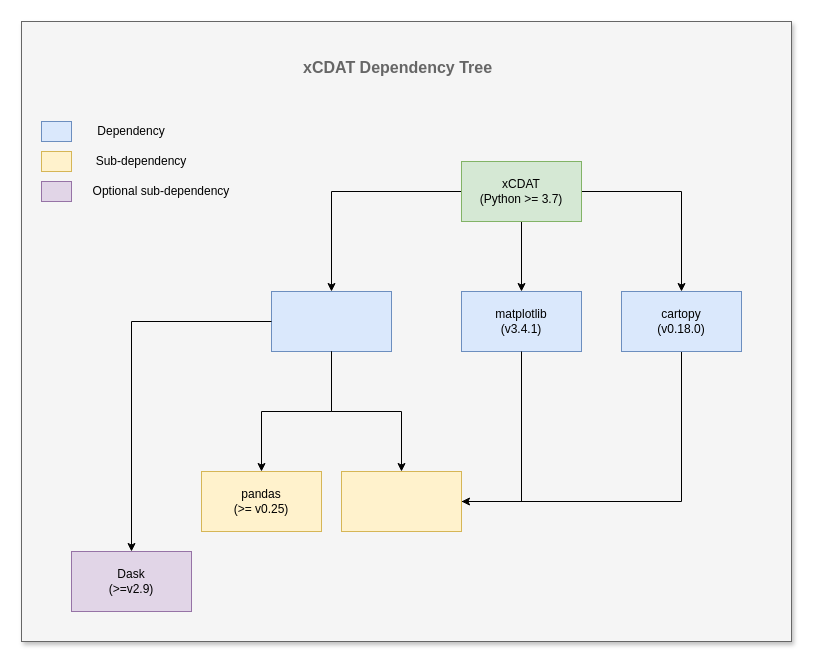
This 815x666 diagram has some shape labels left out. Each missing label, with the centre of its shape:
"numpy (>= v1.15)" goes at point (401, 501).
"xarray (v0.17.0)" goes at point (331, 321).
